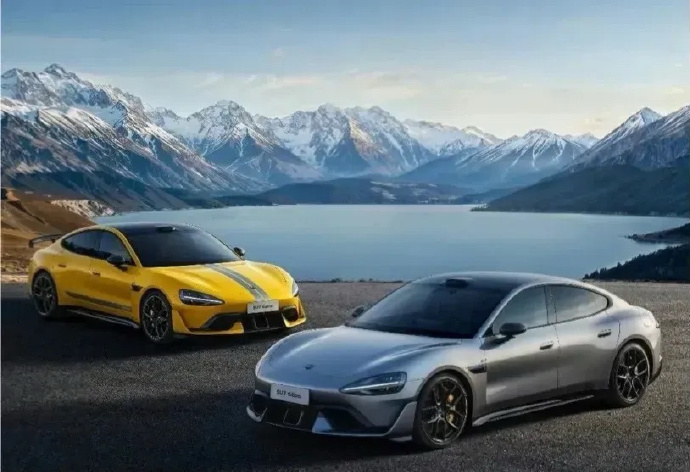su7: (251, 271, 674, 442), (27, 219, 317, 344)
